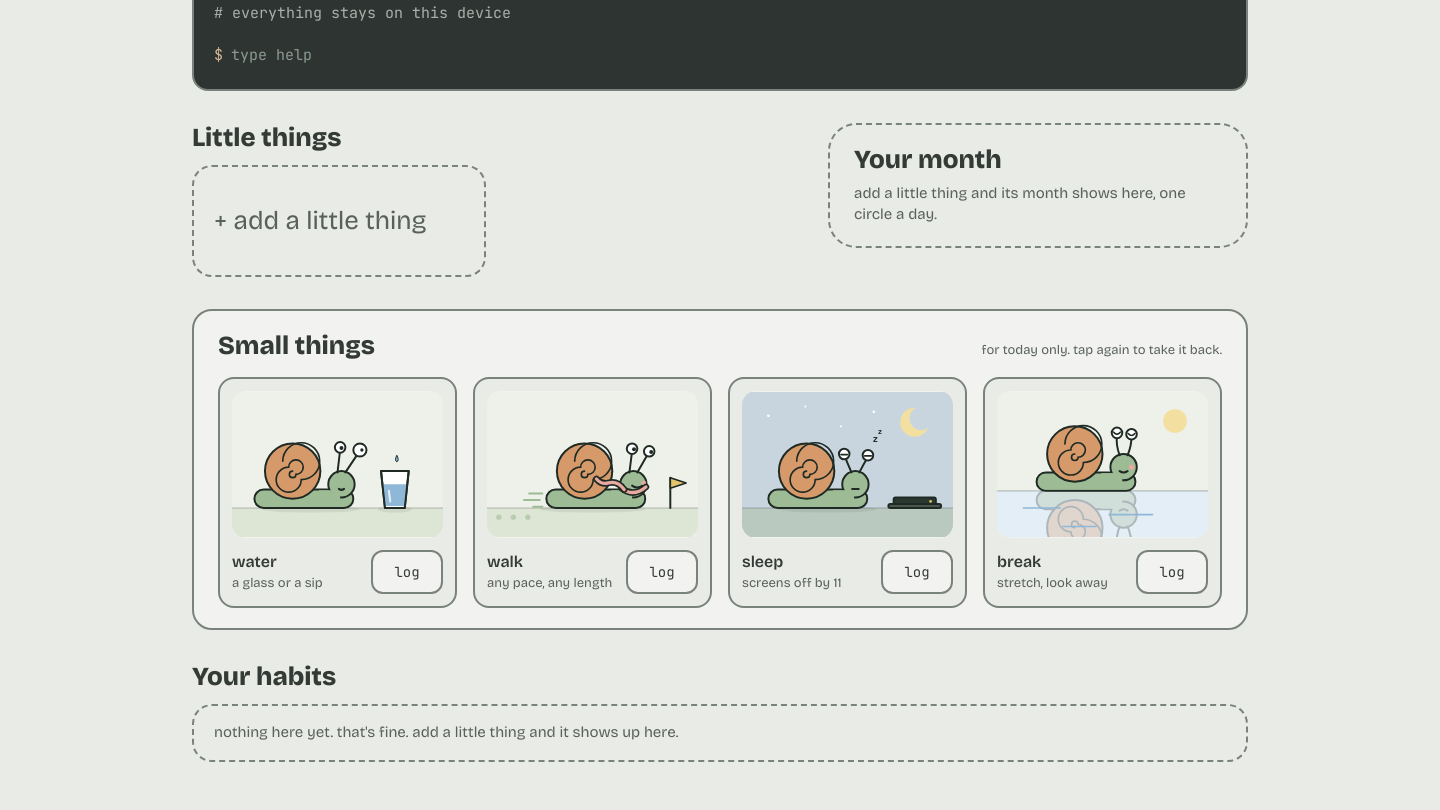
Scenario: HabitsPage › has Small things as a full-width row, logging and unlogging gently
(page scrolled)
Click the button with aria-label "log water": (407, 572) [371,550,443,594]
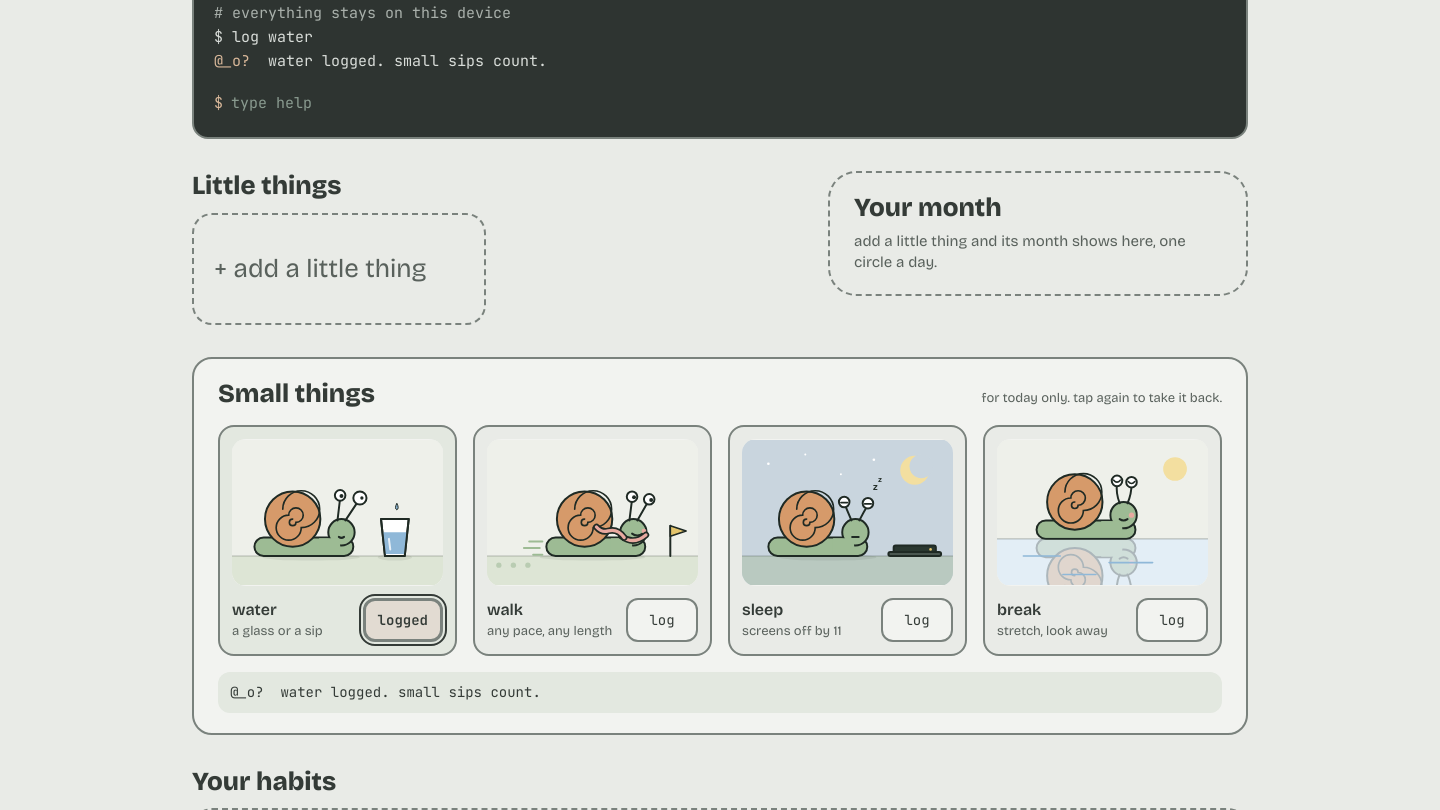
expect the message shows "water logged. small sips count.": met, box [230,683,541,701]
Click the button with aria-label "log water": (403, 620) [363,598,443,642]
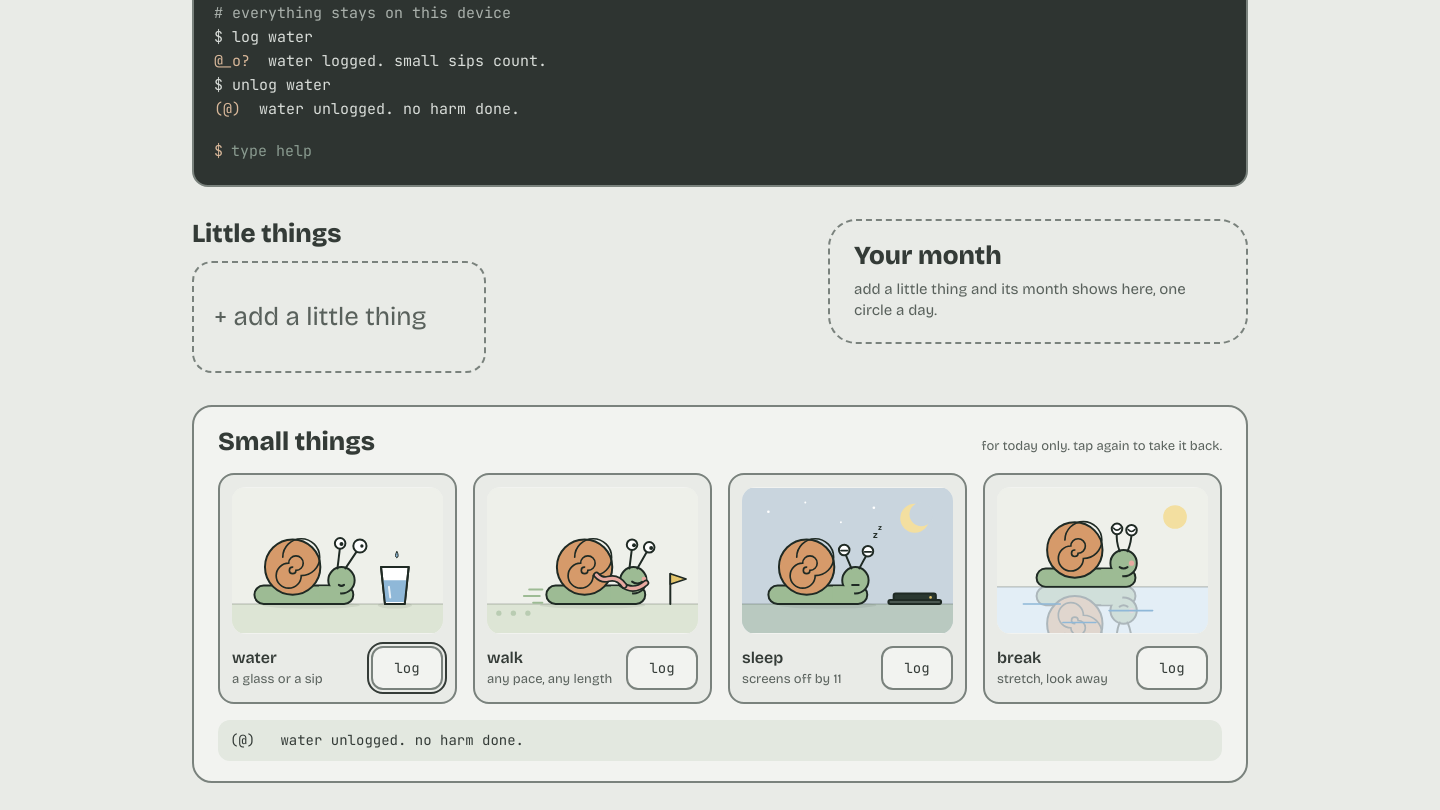
expect the message shows "water unlogged. no harm done.": met, box [230,731,524,749]
